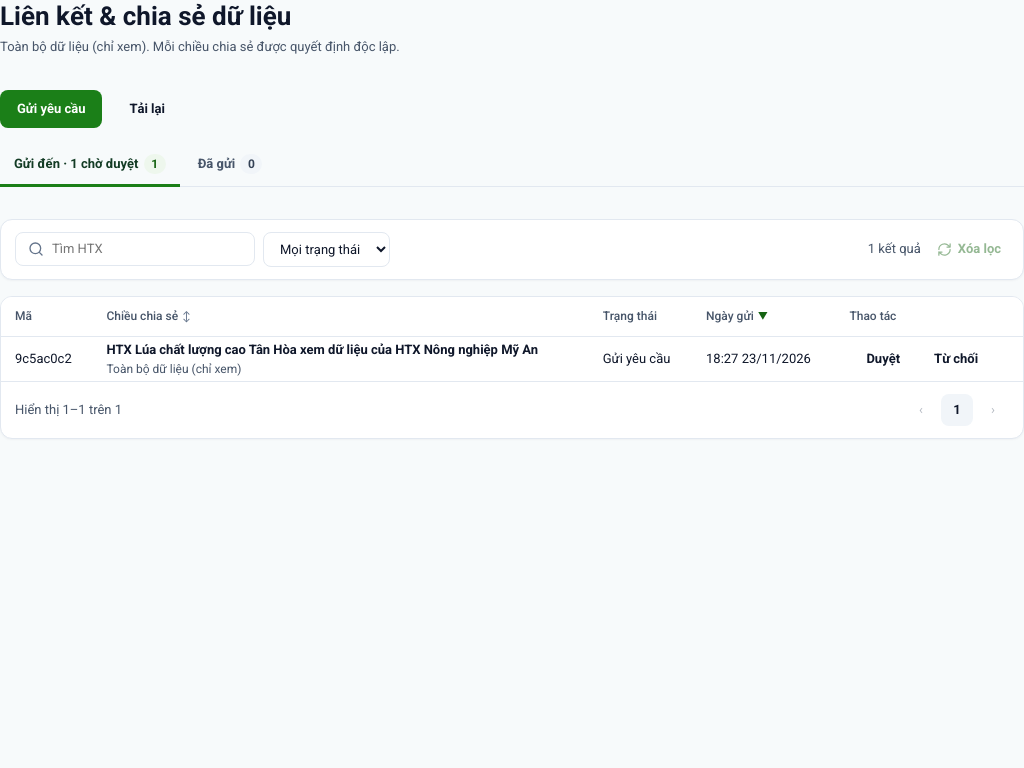
Scenario: stale revision shows the conflict and reloads the list
Click the button "Duyệt". click: (883, 359)
box: [849,340,917,378]
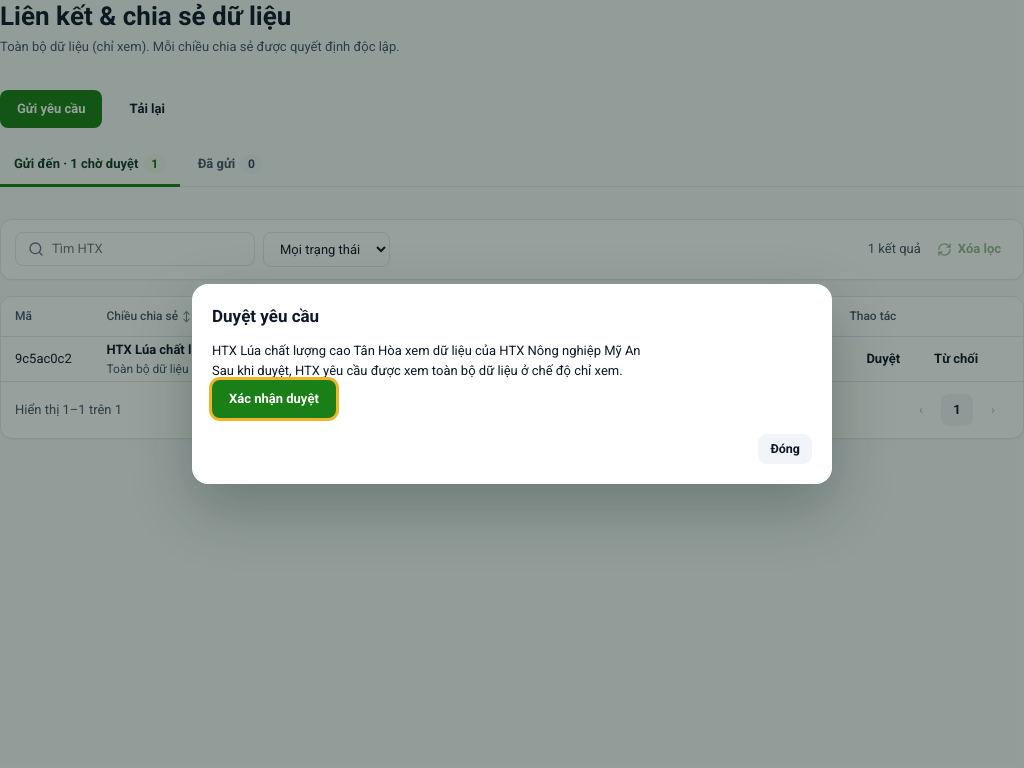
Click the button "Xác nhận duyệt". click: (274, 399)
box: [212,380,336,418]
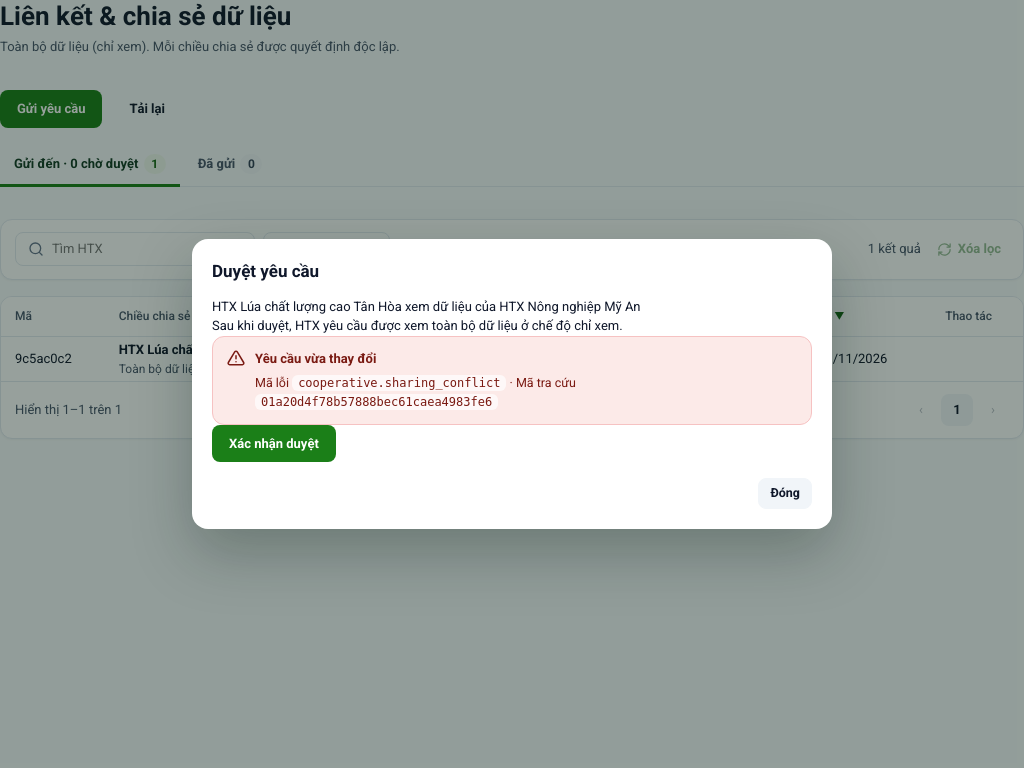
Check: the text "Yêu cầu vừa thay đổi" is shown, box [255,351,376,366]
